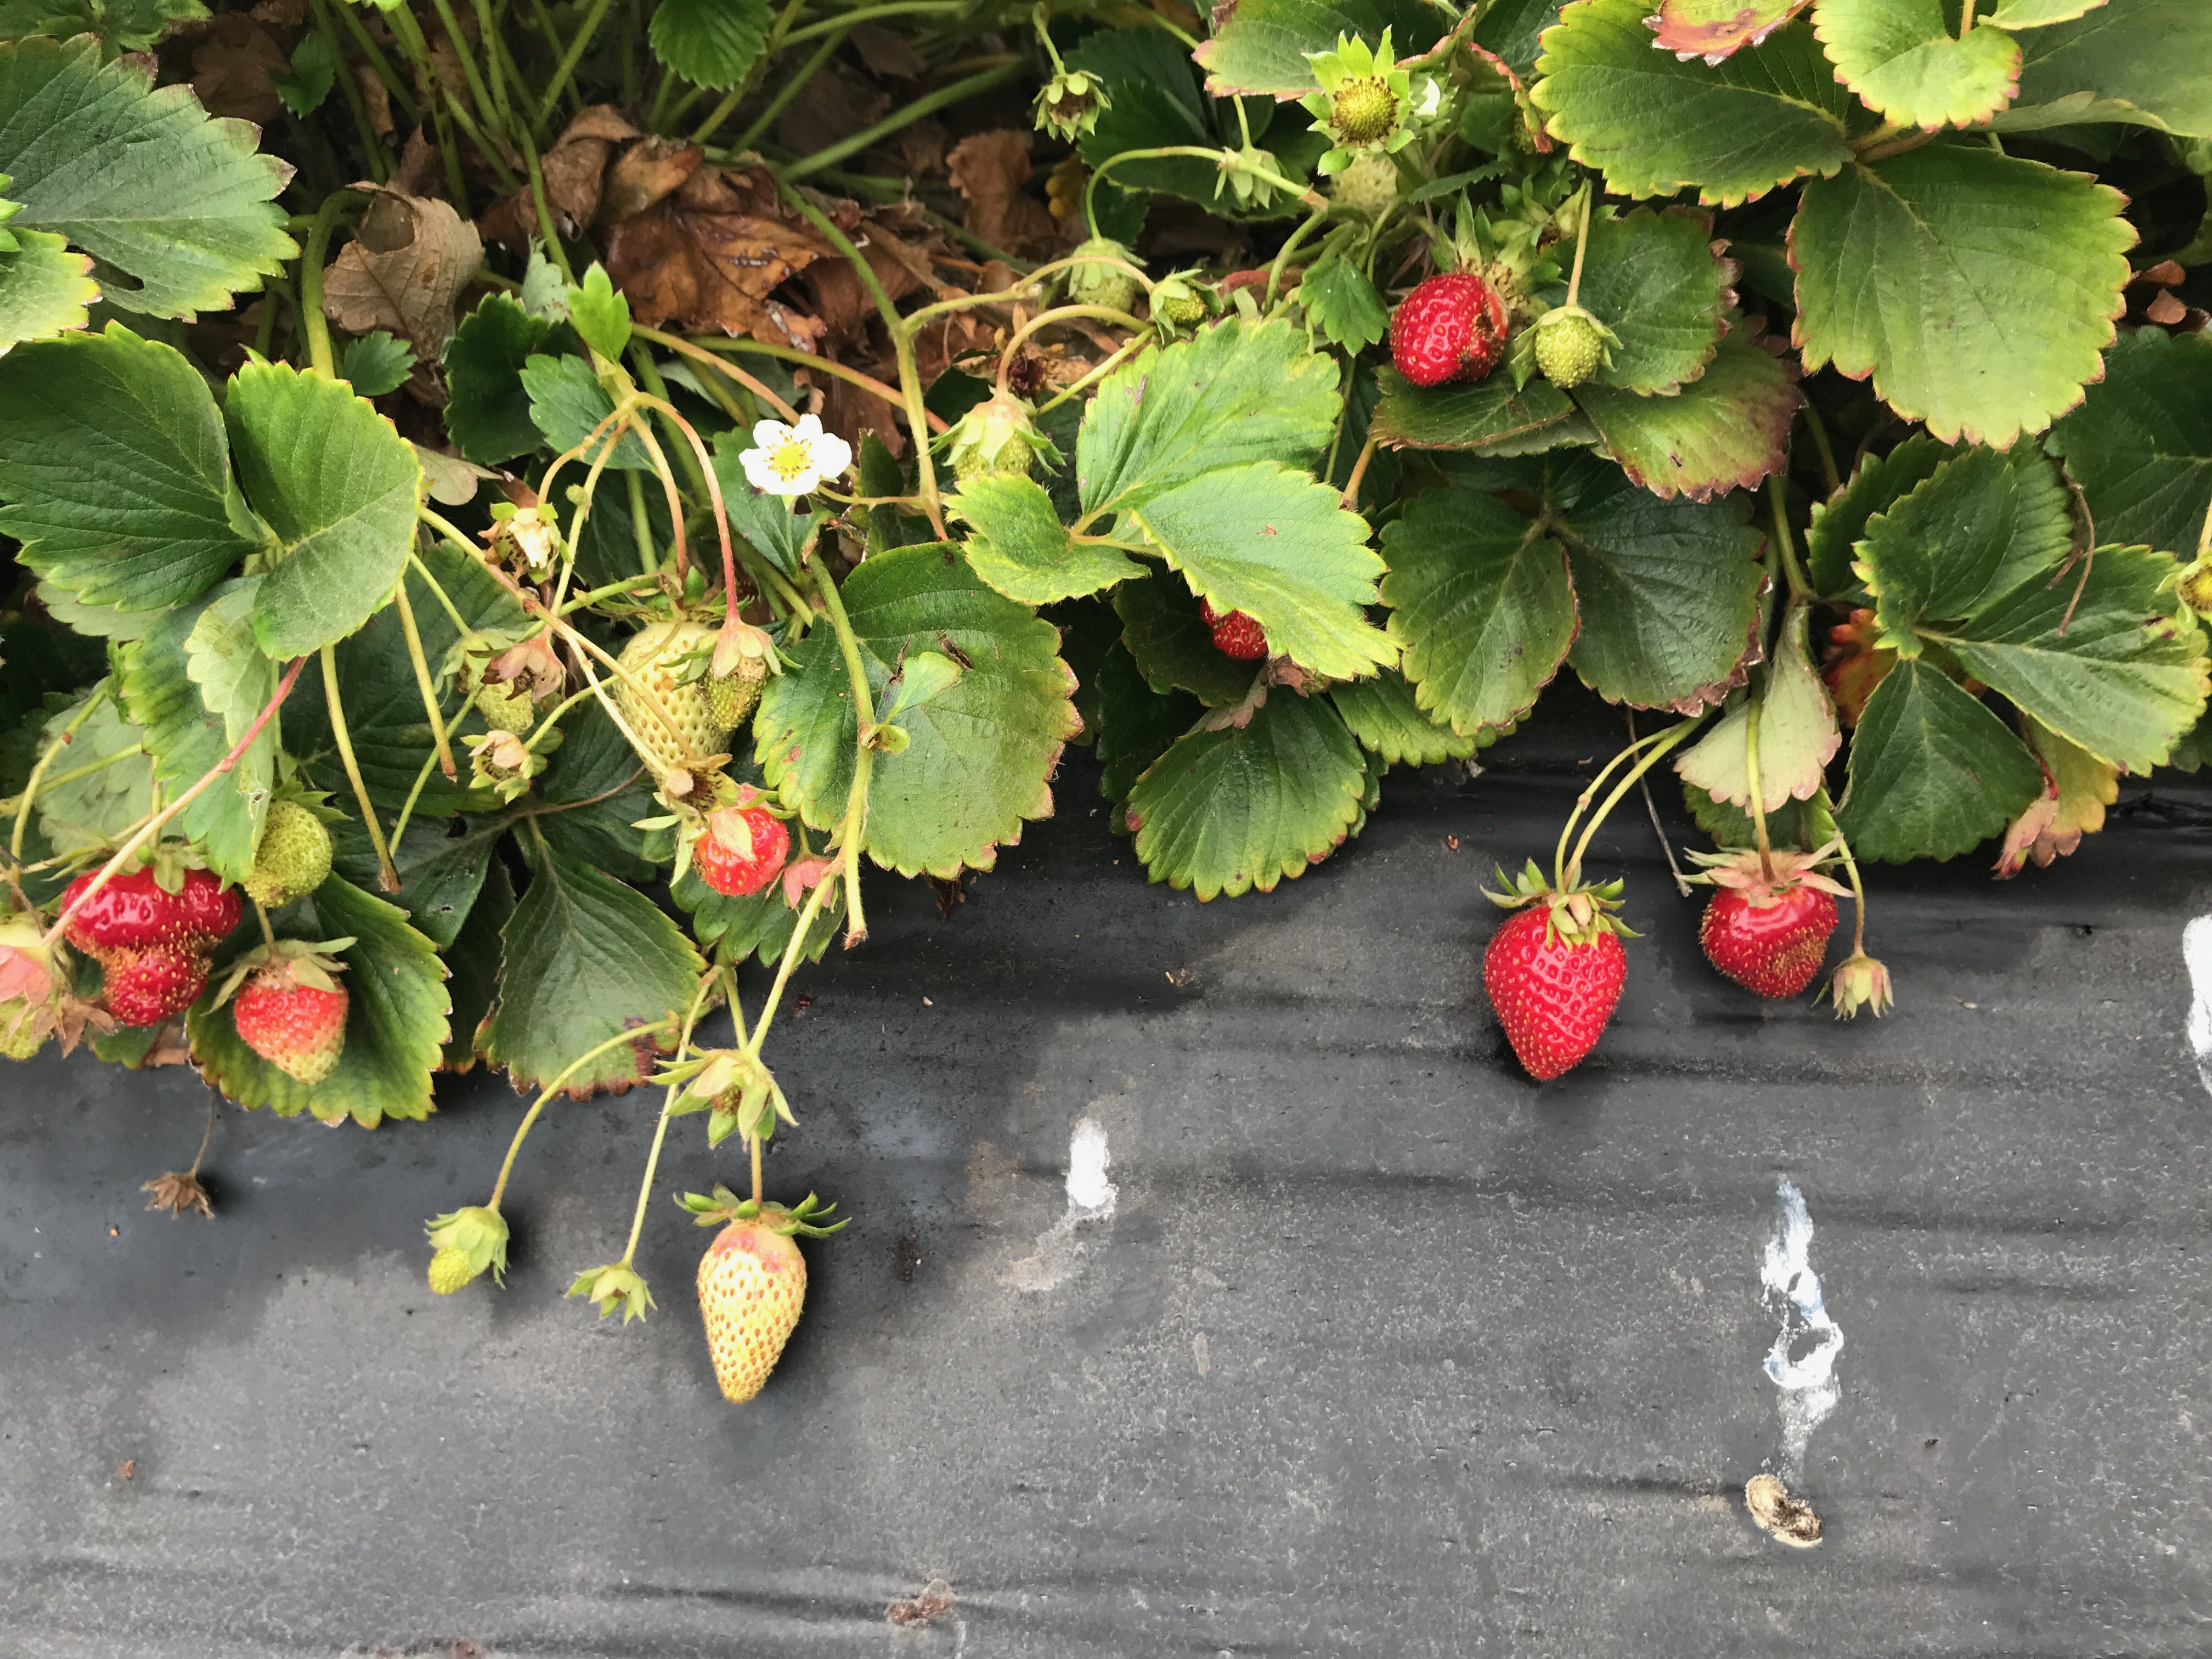ripe_strawberry: (56, 840, 246, 1039), (1472, 892, 1632, 1089), (1691, 843, 1846, 1004), (1383, 258, 1522, 392), (683, 788, 794, 899), (1193, 596, 1271, 662)
unripe_strawberry: (690, 1190, 824, 1412), (608, 591, 738, 781), (232, 939, 357, 1089), (690, 610, 779, 739), (244, 791, 340, 910), (448, 624, 538, 739), (421, 1201, 519, 1302), (1062, 242, 1146, 333), (948, 406, 1038, 488), (1529, 301, 1606, 394), (1320, 70, 1406, 148), (1150, 281, 1216, 329)
